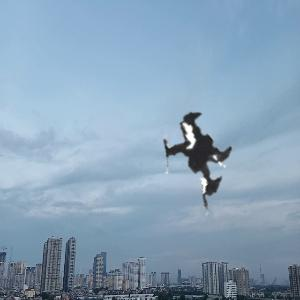drone: (52, 49, 297, 294)
